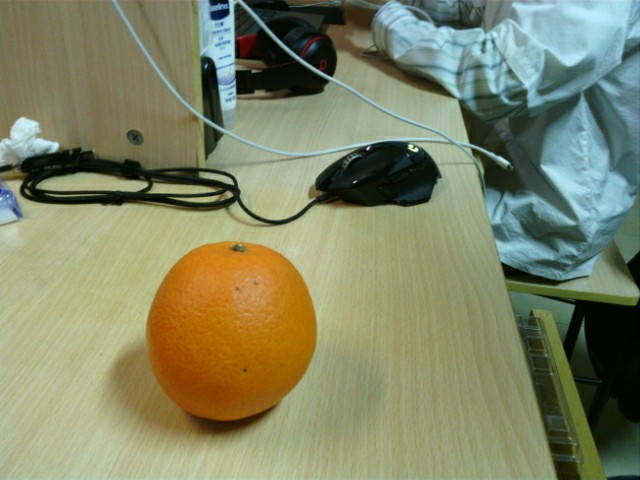normal_orange: (145, 241, 317, 420)
